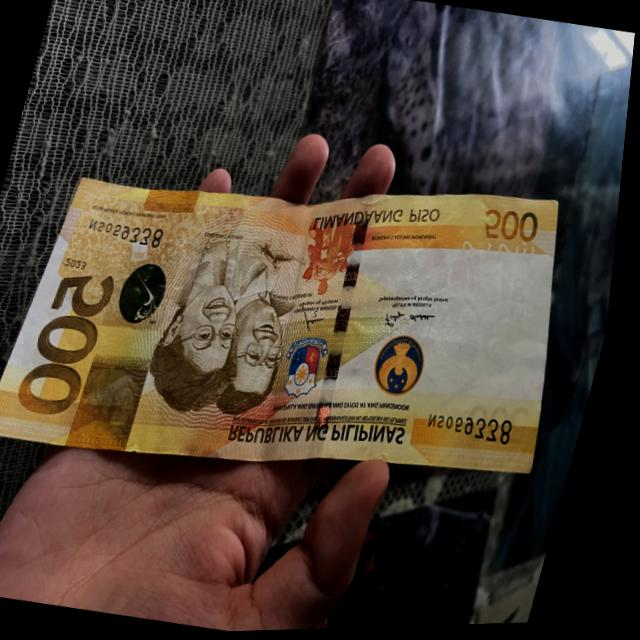concealed_value: (72, 344, 160, 459)
optically_variable_device: (107, 244, 185, 333)
serial_number: (417, 395, 540, 462), (79, 211, 175, 258)
